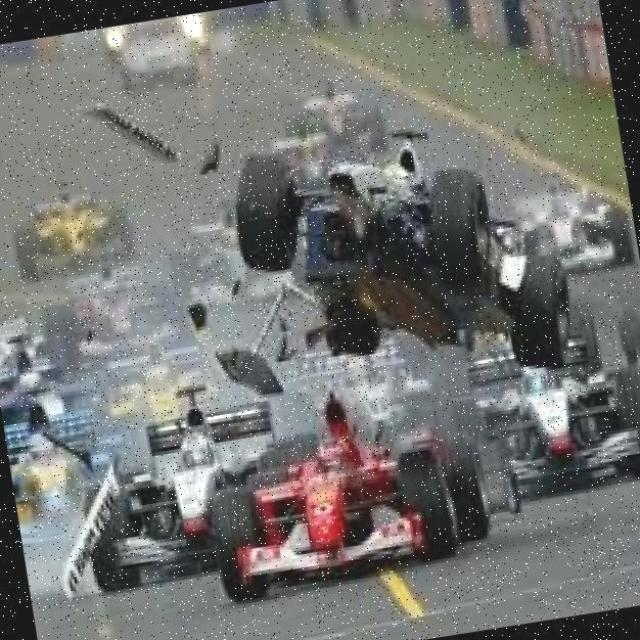accident: (185, 58, 604, 432)
